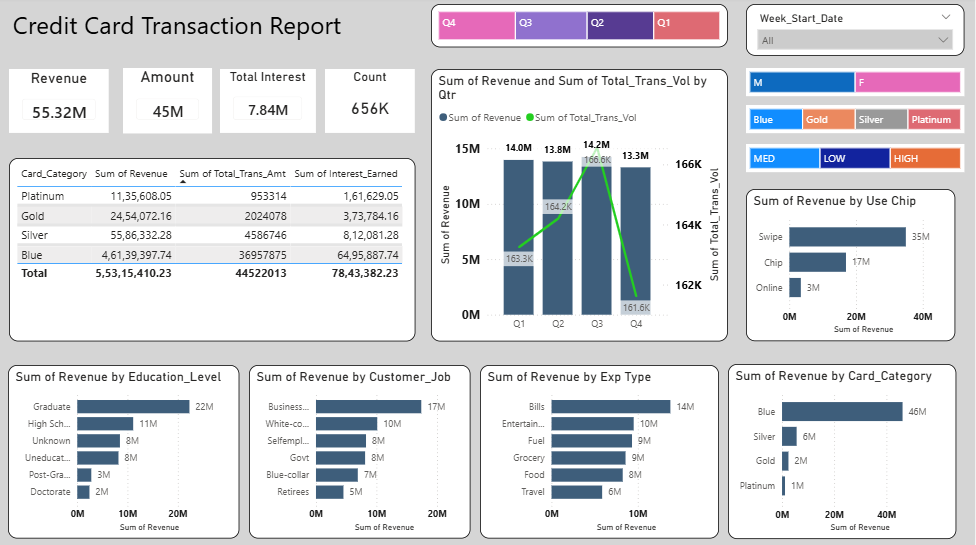

This screenshot's page, from the dashboard's own definition file:
{"tool":"powerbi","page":{"name":"Credit Card","canvas":[1280,720],"ordinal":0},"visuals":[{"type":"textbox","box":[11.4,8.6,460.9,57.1],"z":0},{"type":"lineStackedColumnComboChart","fields":{"Category":["credit_card.Qtr"],"Y":["Sum(credit_card.Revenue)"],"Y2":["Sum(credit_card.Total_Trans_Vol)"]},"box":[566.5,94.2,389.6,358.2],"z":1000},{"type":"barChart","fields":{"Y":["Sum(credit_card.Revenue)"],"Category":["customer.Education_Level"]},"box":[10,483.7,303.9,228.3],"z":2000},{"type":"barChart","fields":{"Y":["Sum(credit_card.Revenue)"],"Category":["customer.Customer_Job"]},"box":[326.8,483.7,291.1,228.3],"z":3000},{"type":"barChart","fields":{"Y":["Sum(credit_card.Revenue)"],"Category":["credit_card.Exp Type"]},"box":[630.7,483.7,313.9,228.3],"z":4000},{"type":"barChart","fields":{"Y":["Sum(credit_card.Revenue)"],"Category":["credit_card.Card_Category"]},"box":[956.1,482.3,299.7,229.7],"z":5000},{"type":"barChart","fields":{"Y":["Sum(credit_card.Revenue)"],"Category":["credit_card.Use Chip"]},"box":[980.3,252.6,275.4,199.8],"z":6000},{"type":"tableEx","fields":{"Values":["credit_card.Card_Category","Sum(credit_card.Revenue)","Sum(credit_card.Total_Trans_Amt)","Sum(credit_card.Interest_Earned)"]},"box":[11.4,211.2,533.7,241.2],"z":7000},{"type":"cardVisual","title":"Revenue","fields":{"Data":["Sum(credit_card.Revenue)"]},"box":[11.4,94.2,131.3,84.2],"z":8000},{"type":"cardVisual","title":"Amount","fields":{"Data":["Sum(credit_card.Total_Trans_Amt)"]},"box":[161.2,92.8,117,85.6],"z":9000},{"type":"cardVisual","title":"Total Interest","fields":{"Data":["Sum(credit_card.Interest_Earned)"]},"box":[289.7,94.2,125.6,84.2],"z":10000},{"type":"card","title":"Count","fields":{"Values":["Sum(credit_card.Total_Trans_Vol)"]},"box":[426.7,94.2,118.4,84.2],"z":11000},{"type":"slicer","fields":{"Values":["credit_card.Week_Start_Date"]},"box":[980.3,8.6,286.8,68.5],"z":12000},{"type":"treemap","fields":{"Group":["credit_card.Qtr"],"Values":["Max(credit_card.Client_Num)"]},"box":[566.5,8.6,389.6,57.1],"z":13000},{"type":"treemap","fields":{"Group":["customer.Gender"],"Values":["Max(credit_card.Client_Num)"]},"box":[980.3,92.8,286.8,37.1],"z":14000},{"type":"treemap","fields":{"Group":["credit_card.Card_Category"],"Values":["Max(credit_card.Client_Num)"]},"box":[980.3,141.3,286.8,37.1],"z":15000},{"type":"treemap","fields":{"Group":["customer.Income_Group"],"Values":["Max(credit_card.Client_Num)"]},"box":[980.3,192.6,286.8,37.1],"z":16000}]}

Visuals, with their boxes in screenshot pixels (x1, y1, x2, y2), scaled from the page's 1280x720 canvas onto the 976x545 screenshot:
textbox: Rect(9, 7, 360, 50)
lineStackedColumnComboChart - credit_card.Qtr x Sum(credit_card.Revenue): Rect(432, 71, 729, 342)
barChart - Sum(credit_card.Revenue) x customer.Education_Level: Rect(8, 366, 239, 539)
barChart - Sum(credit_card.Revenue) x customer.Customer_Job: Rect(249, 366, 471, 539)
barChart - Sum(credit_card.Revenue) x credit_card.Exp Type: Rect(481, 366, 720, 539)
barChart - Sum(credit_card.Revenue) x credit_card.Card_Category: Rect(729, 365, 958, 539)
barChart - Sum(credit_card.Revenue) x credit_card.Use Chip: Rect(747, 191, 957, 342)
tableEx - credit_card.Card_Category x Sum(credit_card.Revenue): Rect(9, 160, 416, 342)
"Revenue" cardVisual: Rect(9, 71, 109, 135)
"Amount" cardVisual: Rect(123, 70, 212, 135)
"Total Interest" cardVisual: Rect(221, 71, 317, 135)
"Count" card: Rect(325, 71, 416, 135)
slicer - credit_card.Week_Start_Date: Rect(747, 7, 966, 58)
treemap - credit_card.Qtr x Max(credit_card.Client_Num): Rect(432, 7, 729, 50)
treemap - customer.Gender x Max(credit_card.Client_Num): Rect(747, 70, 966, 98)
treemap - credit_card.Card_Category x Max(credit_card.Client_Num): Rect(747, 107, 966, 135)
treemap - customer.Income_Group x Max(credit_card.Client_Num): Rect(747, 146, 966, 174)
